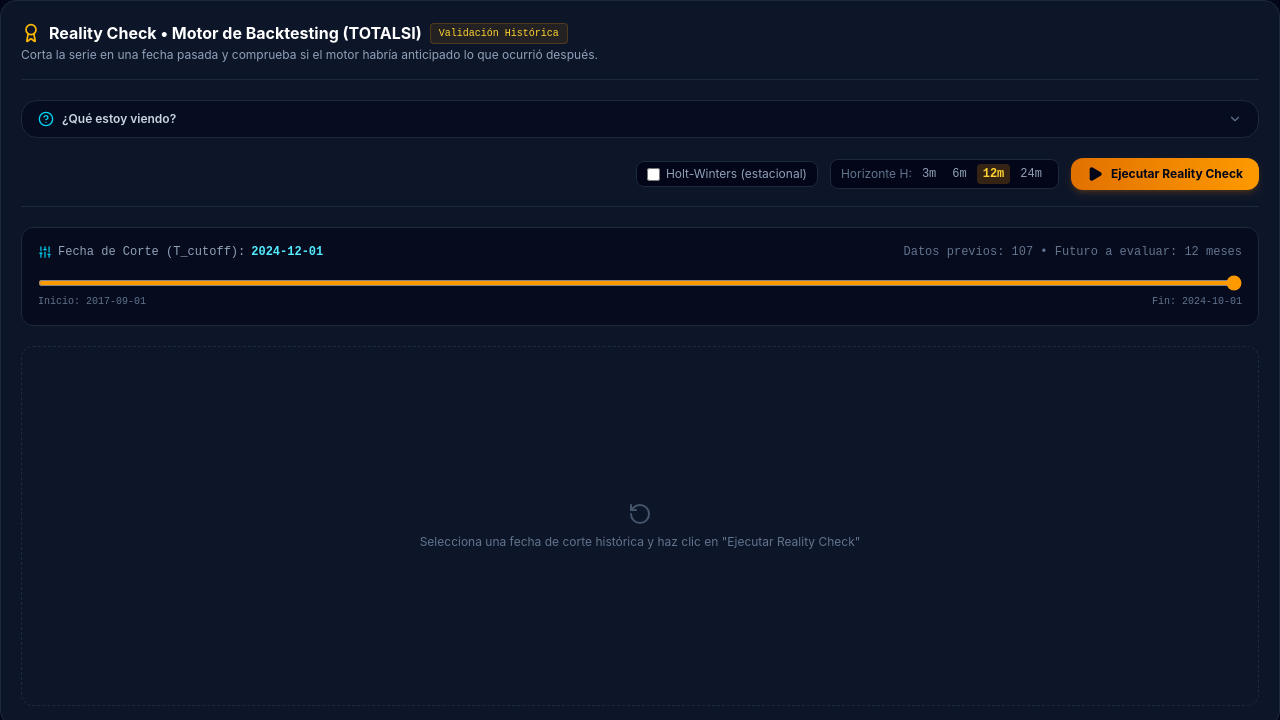
it: No browser dialogs: errors in the page › Reality Check shows its error inline
The width and height of the screenshot is (1280, 720).
Click the button "Ejecutar Reality Check" at (1165, 174), box x1=1071 y1=158 x2=1259 y2=190
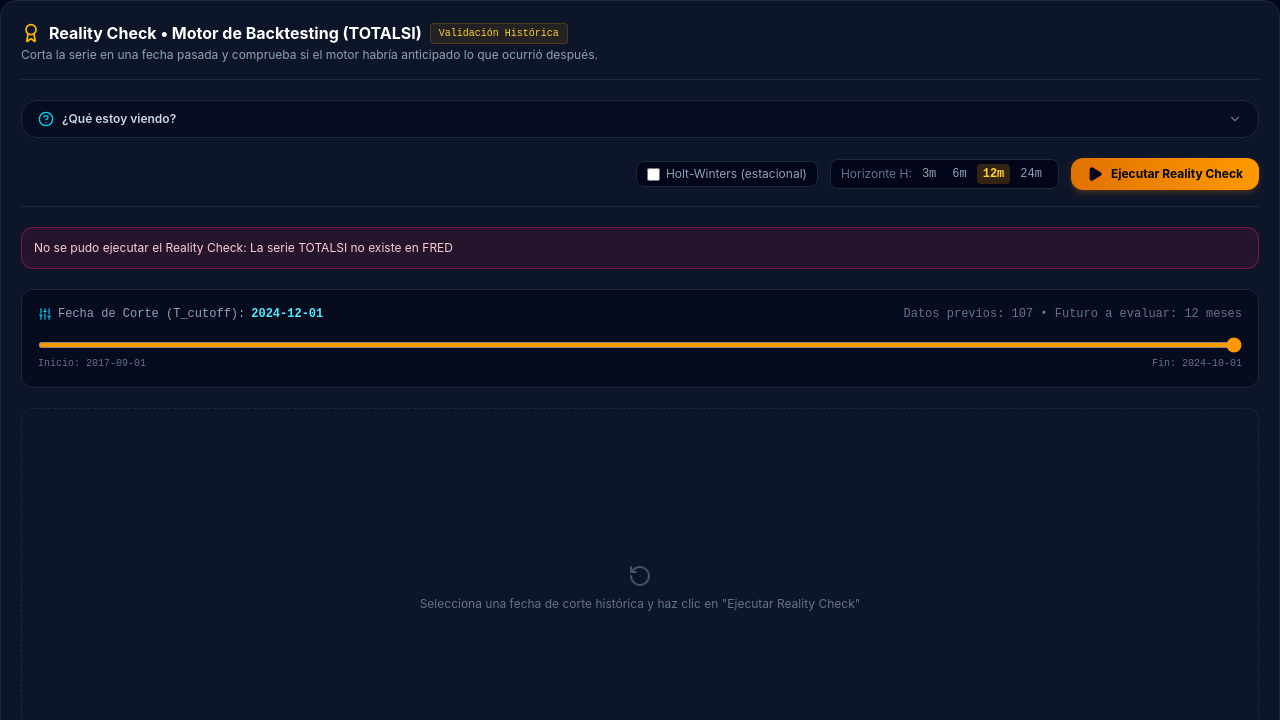
Expected: the message with test id "backtest-error" shows "TOTALSI no existe en FRED", x1=250 y1=240 x2=453 y2=255
